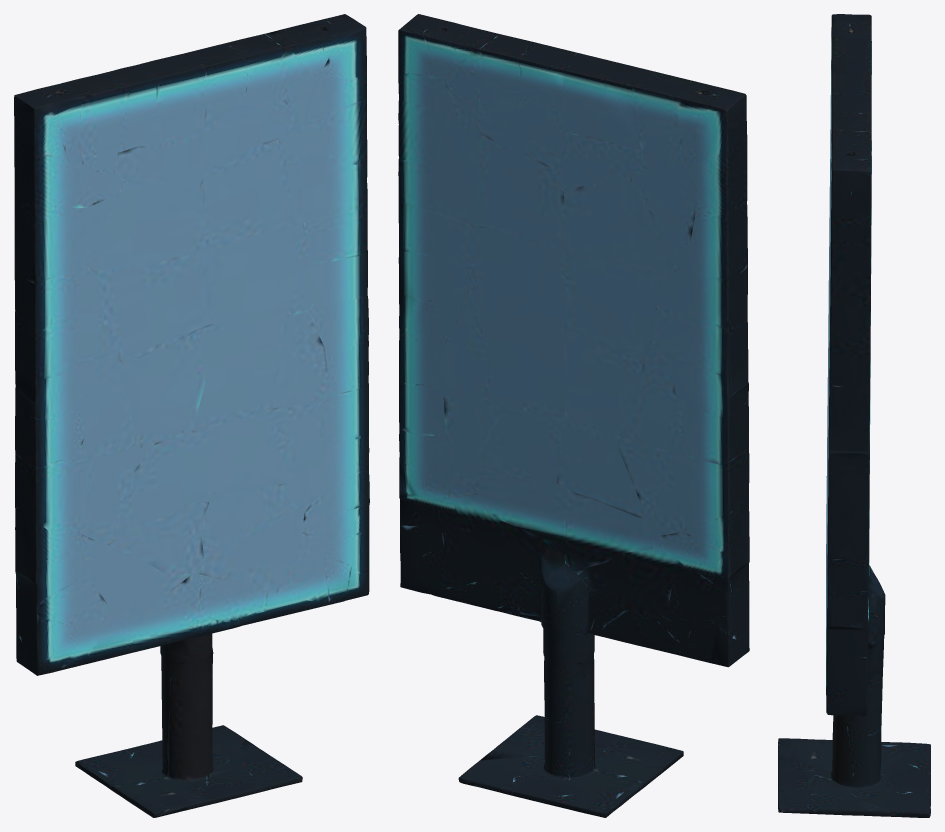
File: billboard_v_p.glb
3 renders of one model, left to right at view 1: azimuth 30°, elevation 25°; view 2: azimuth 150°, elevation 25°; view 3: azimuth 270°, elevation 25°, orthographic. The views are drawn at different scales.
Size of the model in its own units: 0.9265 by 1.9 by 0.3803.
1 material, 1 textured.
